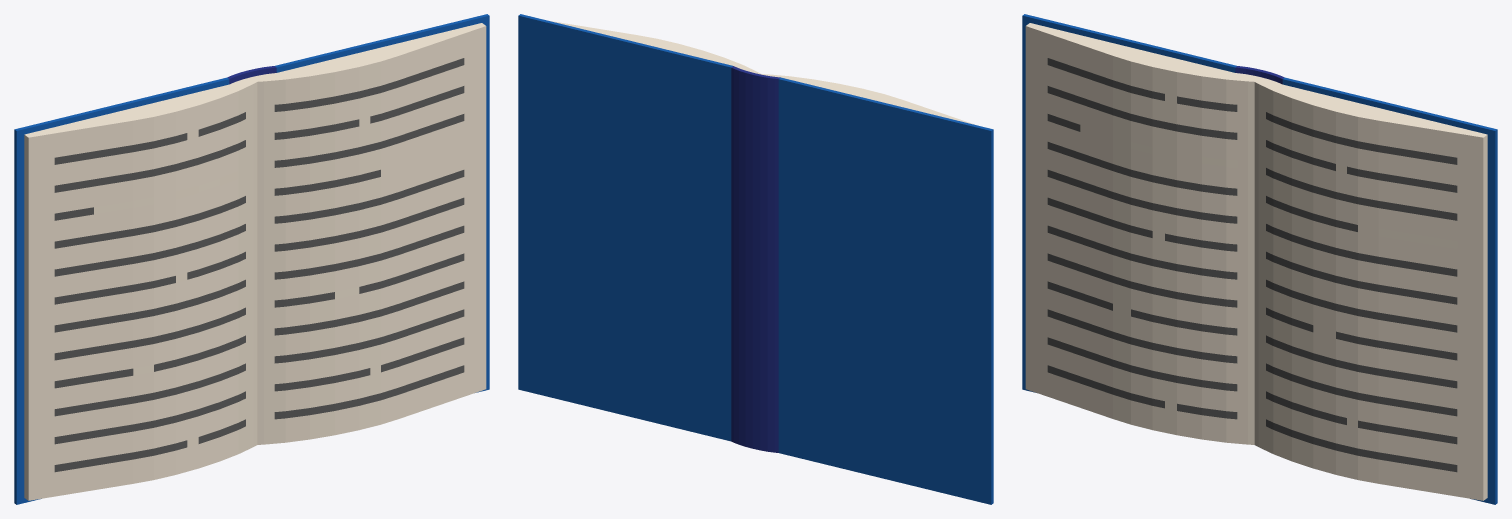
Rendered from open_book.glb.
3 views of the same model, side by side, from view 1: azimuth 30°, elevation 25°; view 2: azimuth 150°, elevation 25°; view 3: azimuth 330°, elevation 25° (orthographic).
Parts seen in each view (by area): view 1: Cube.946; view 2: Cube.946; view 3: Cube.946.
Boxes of the visible parts, x1=… form: Cube.946: x1=14, y1=14, x2=489, y2=504; Cube.946: x1=518, y1=14, x2=993, y2=504; Cube.946: x1=1022, y1=14, x2=1497, y2=504.
Bounding box in the file's own units: 2.4 × 1.81 × 0.1656.
1 material, 1 textured.
